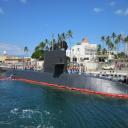submarine: (1, 34, 128, 99)
